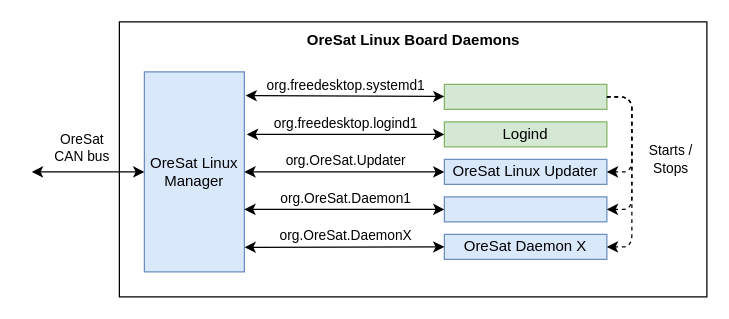
Image size: 729x319. Some labels were removed from this diagram. The box of each missing label's shape, as (x1, y1, x2, y2) in pixels:
OreSat Daemon 1: (443, 196, 607, 222)
Systemd: (443, 83, 607, 109)
